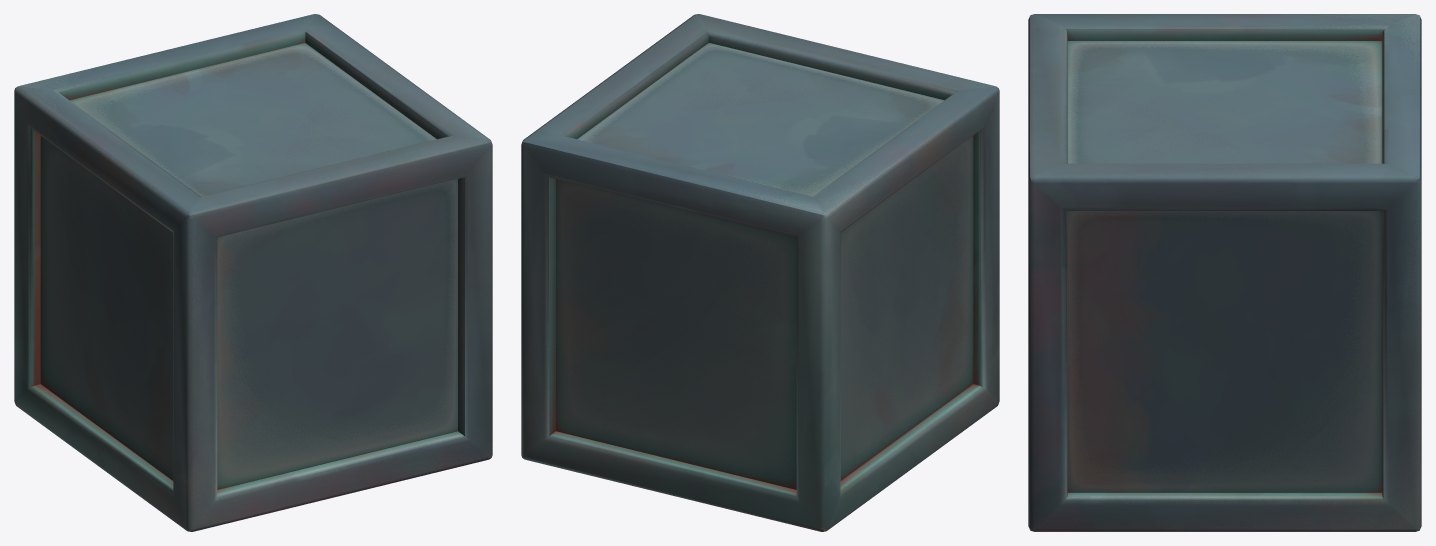
The model's file is pip2_crate_1_bm.fbx.
3 views of the same model, side by side, from view 1: azimuth 30°, elevation 25°; view 2: azimuth 150°, elevation 25°; view 3: azimuth 270°, elevation 25° (orthographic). The views are drawn at different scales.
Visible parts, largest first — view 1: crate_1; view 2: crate_1; view 3: crate_1.
Boxes of the visible parts, left/top/right/bottom form: crate_1: left=14, top=14, right=492, bottom=531; crate_1: left=521, top=14, right=999, bottom=531; crate_1: left=1028, top=14, right=1421, bottom=531.
Bounding box in the file's own units: 99.96 × 99.96 × 99.96.
1 material, 1 textured.
